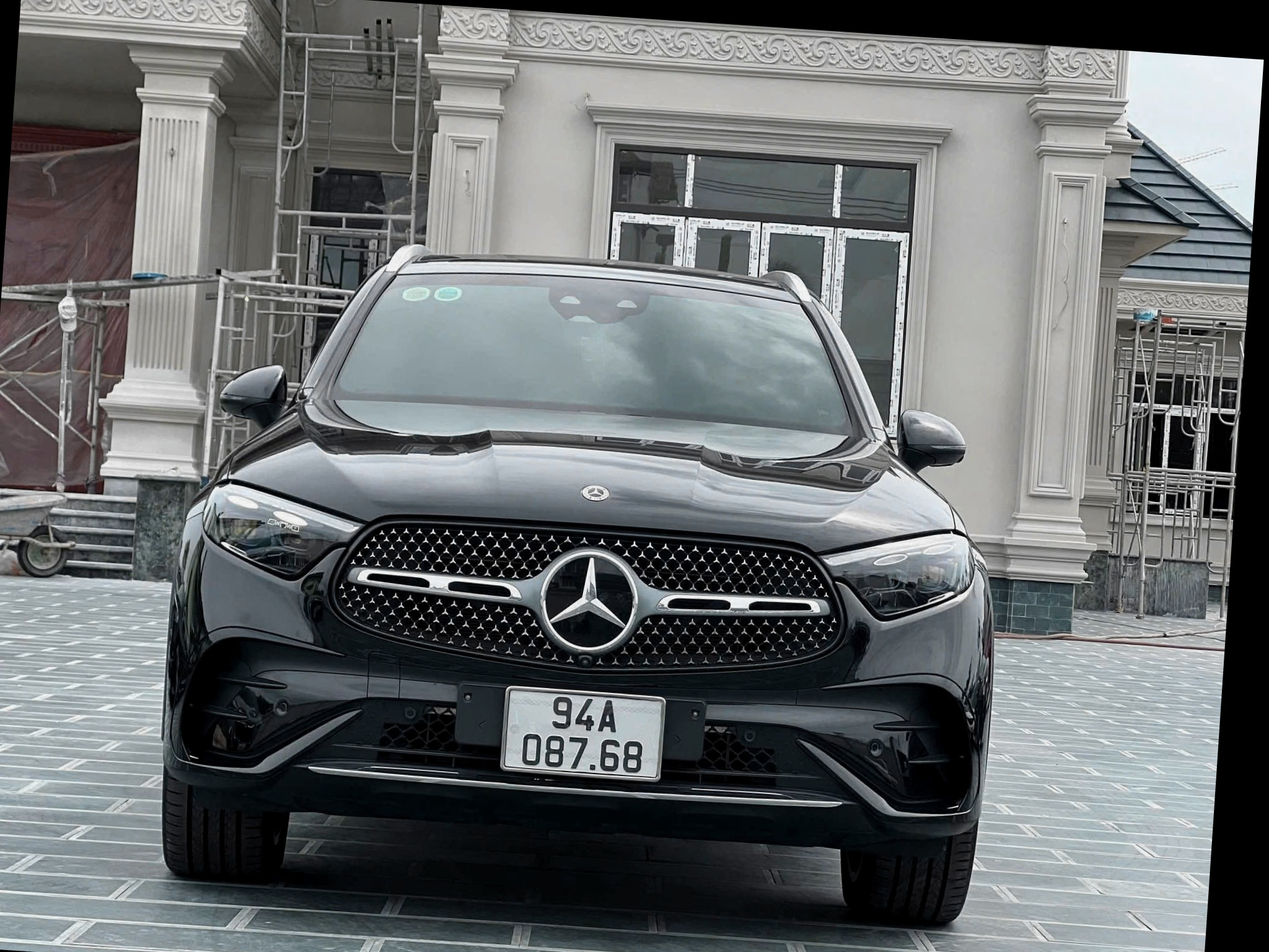Bien-so: (536, 620, 703, 722)
